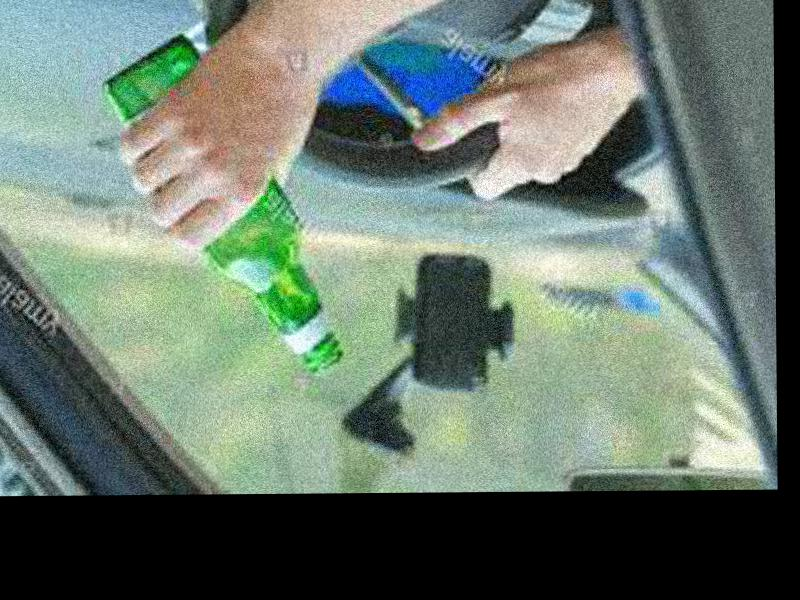Beer: (111, 29, 340, 370)
